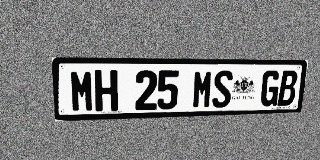2: (135, 70, 157, 110)
5: (157, 70, 179, 110)
B: (277, 70, 298, 106)
G: (259, 70, 281, 106)
H: (94, 70, 118, 112)
M: (69, 70, 95, 112), (192, 70, 214, 109)
S: (212, 70, 233, 108)
